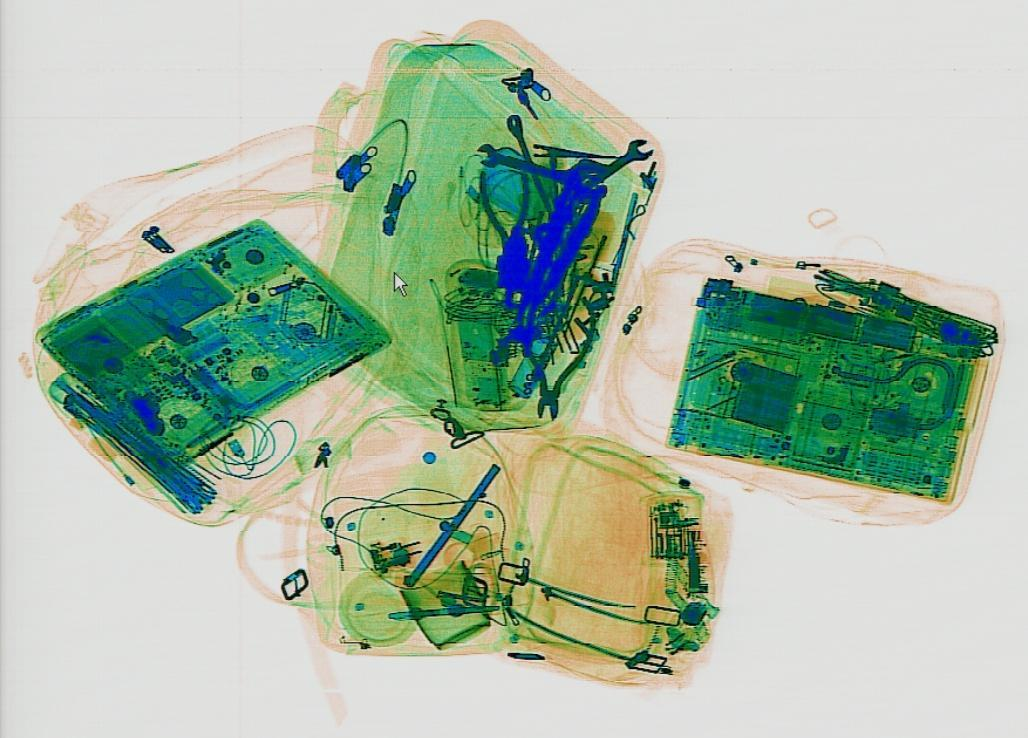Pliers: (509, 293, 599, 423), (476, 170, 538, 258)
Wrench: (468, 141, 578, 188), (572, 135, 658, 192)
